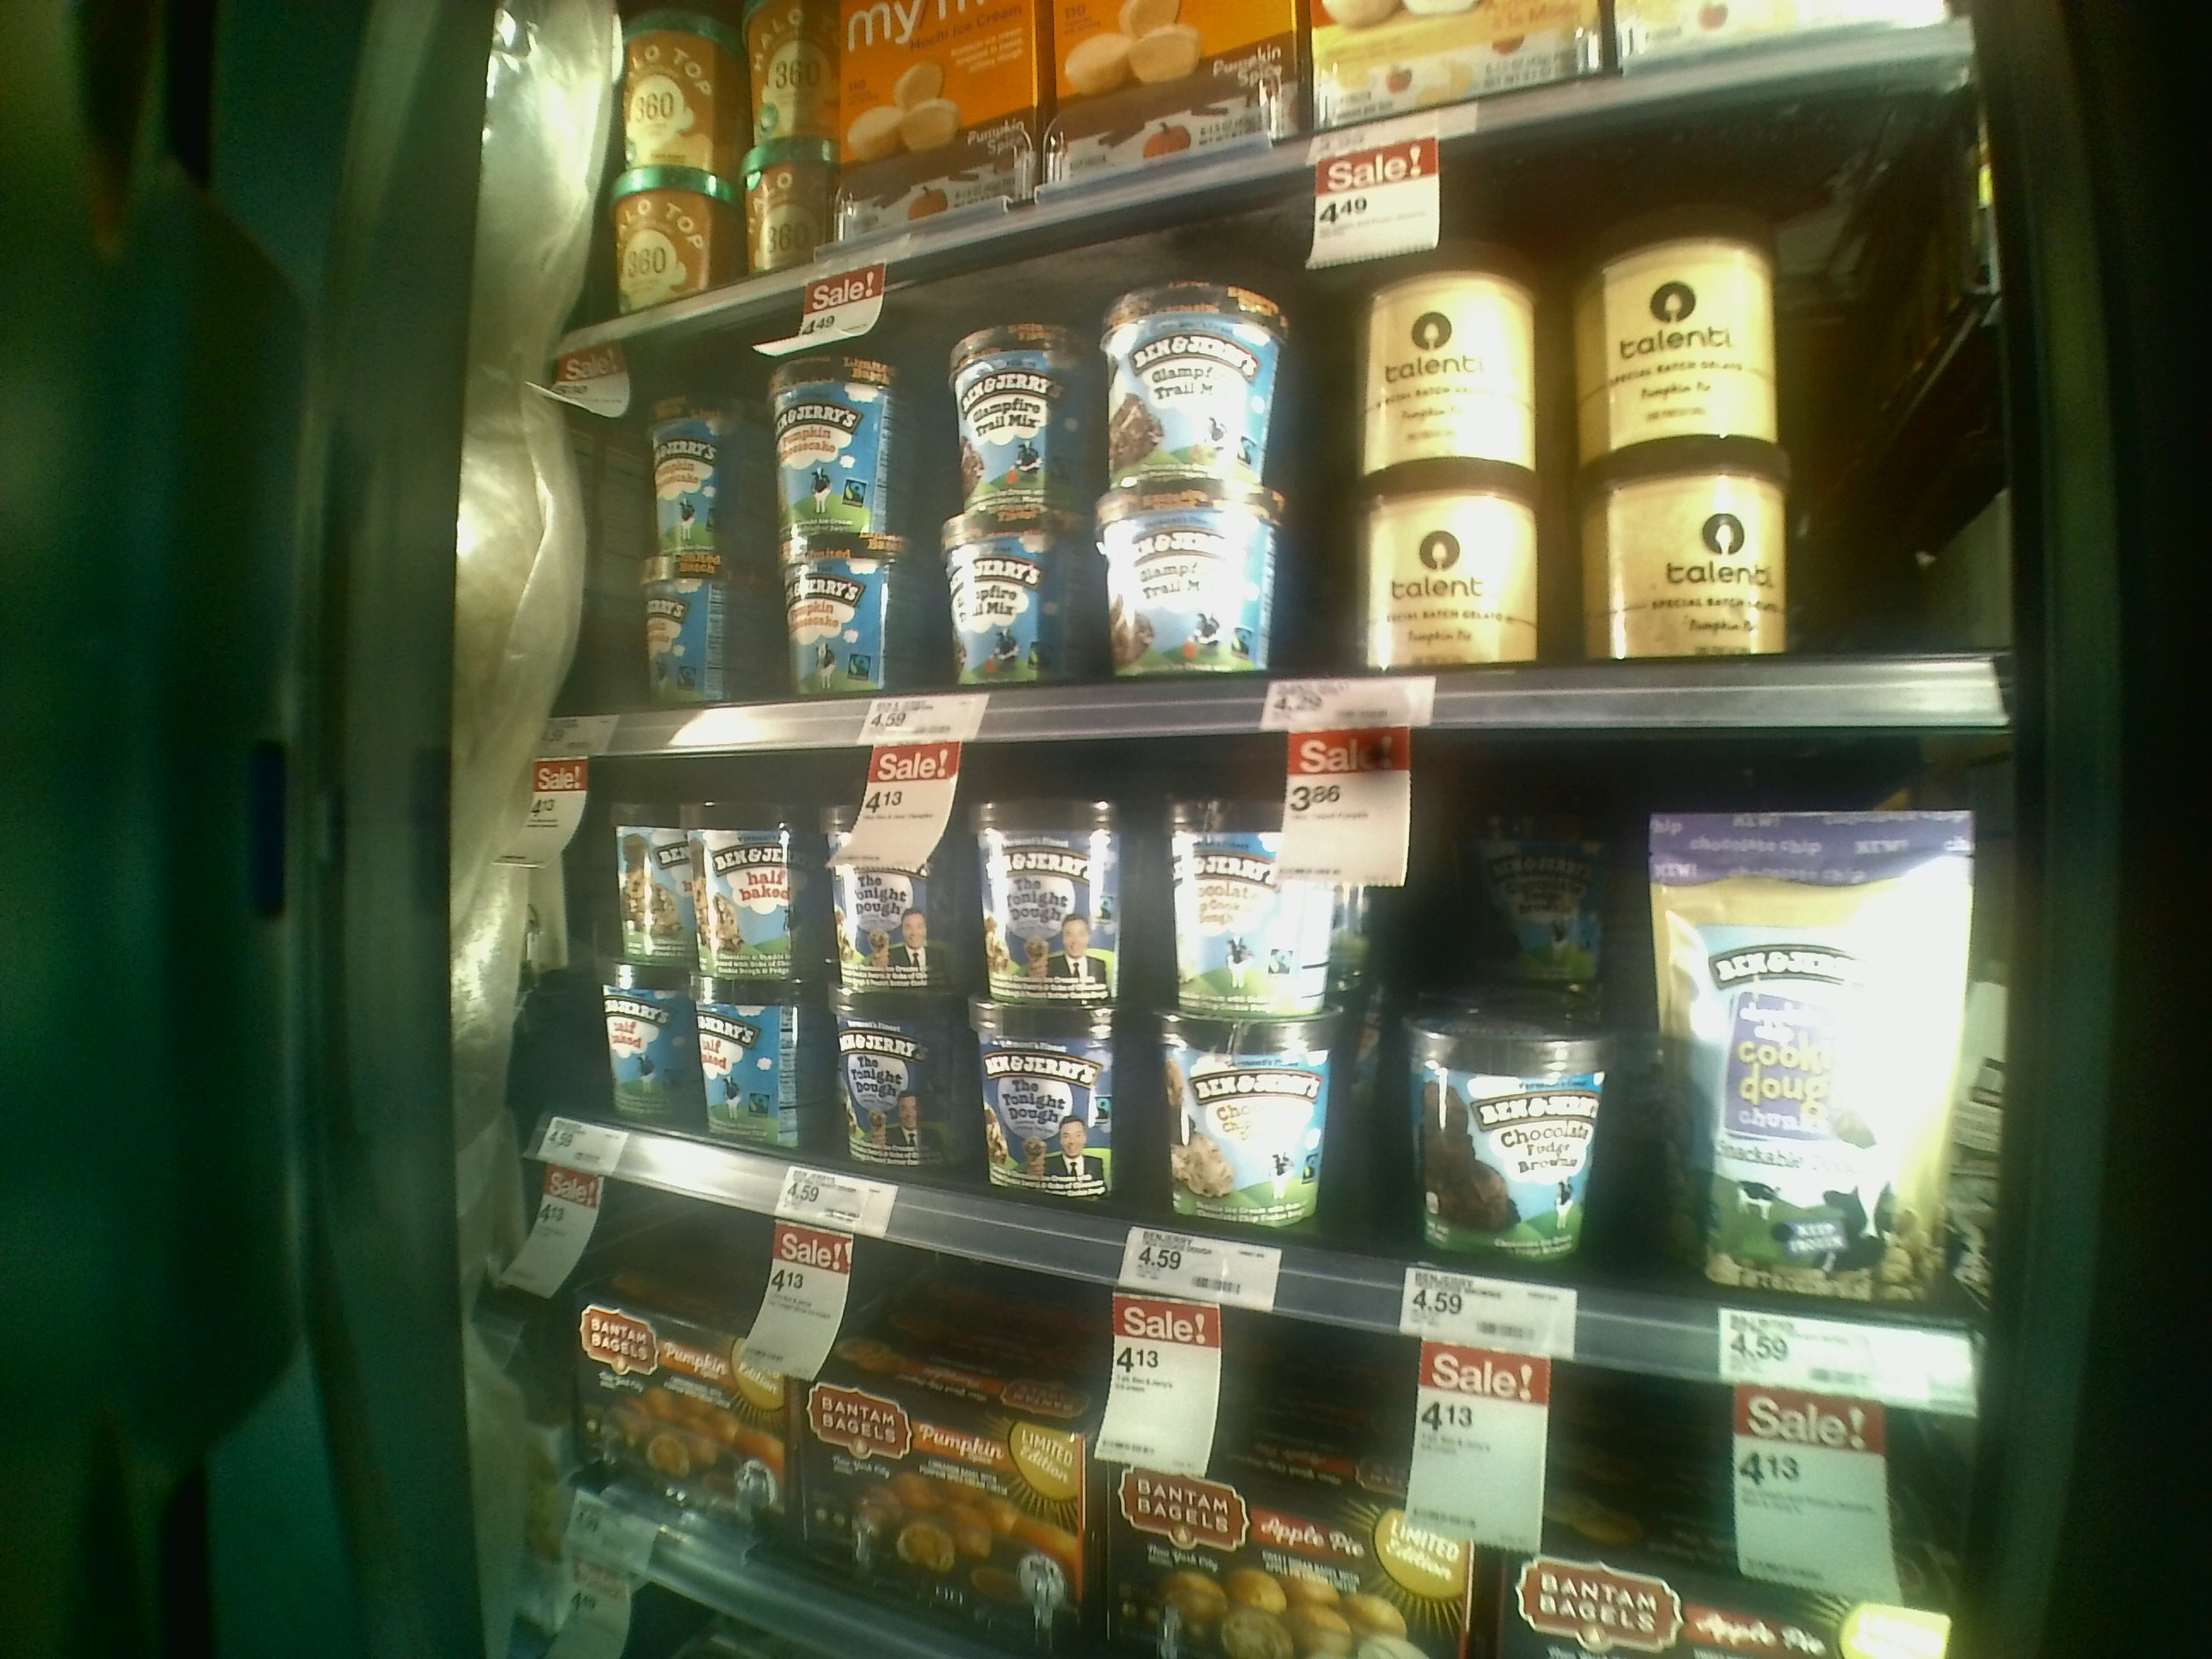shelf: (542, 701, 1972, 1406), (547, 295, 2010, 730)
